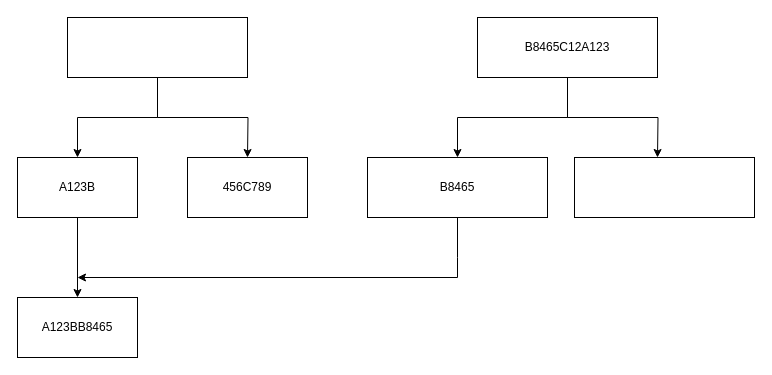
Some shapes in this 772 by 375 pixel diagram are drawn without their labels. The centre of each missing label's shape, as x and y in pixels:
"A123B456C789" goes at point 157,47.
"C12A123" goes at point 664,187.
